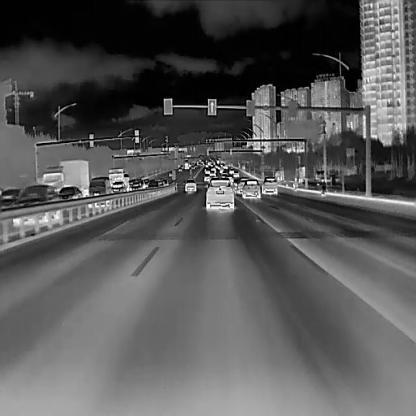car: (12, 184, 56, 226), (43, 160, 89, 194), (205, 177, 232, 211), (89, 177, 109, 207), (56, 186, 84, 205), (107, 169, 127, 189), (261, 175, 277, 196), (242, 180, 260, 198), (0, 187, 17, 204), (183, 177, 196, 192), (147, 180, 159, 194), (111, 182, 126, 193), (237, 176, 245, 194), (130, 180, 145, 189), (320, 178, 326, 197), (292, 176, 297, 191), (232, 170, 239, 177), (183, 160, 188, 168), (204, 167, 209, 173), (209, 170, 215, 175), (204, 175, 209, 181), (229, 167, 233, 173), (219, 167, 223, 172), (223, 164, 227, 169), (222, 170, 226, 174), (169, 170, 172, 175), (178, 168, 182, 171), (204, 163, 207, 167)
